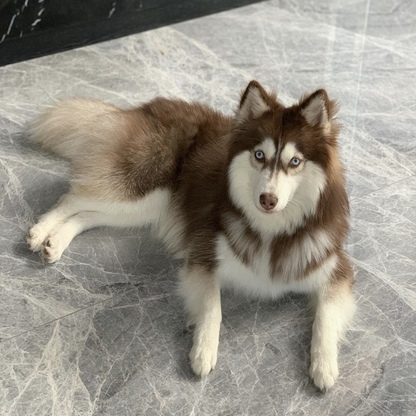husky: (19, 77, 364, 396)
